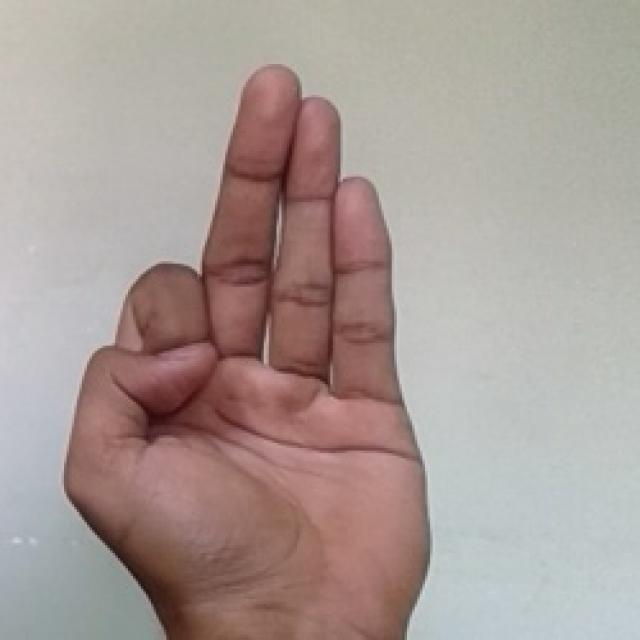Numeric-9: (66, 56, 433, 599)
